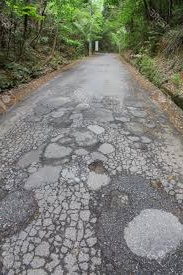pothole: (103, 188, 133, 211), (81, 155, 108, 172), (126, 130, 139, 144)
